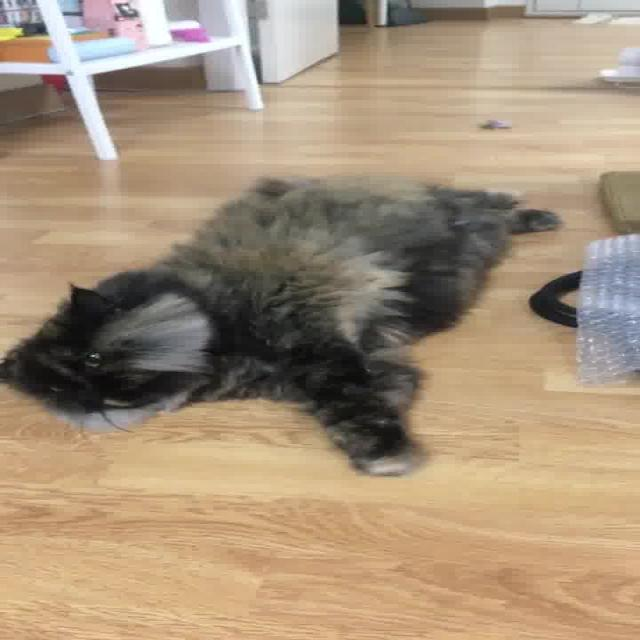cat: (2, 151, 580, 489)
